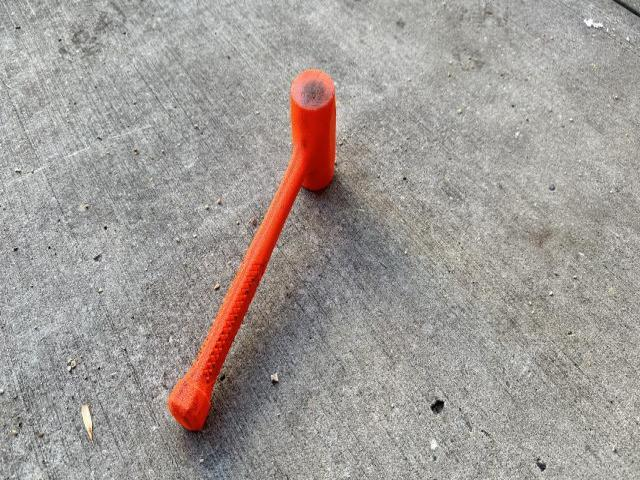hammer: (169, 69, 336, 435)
